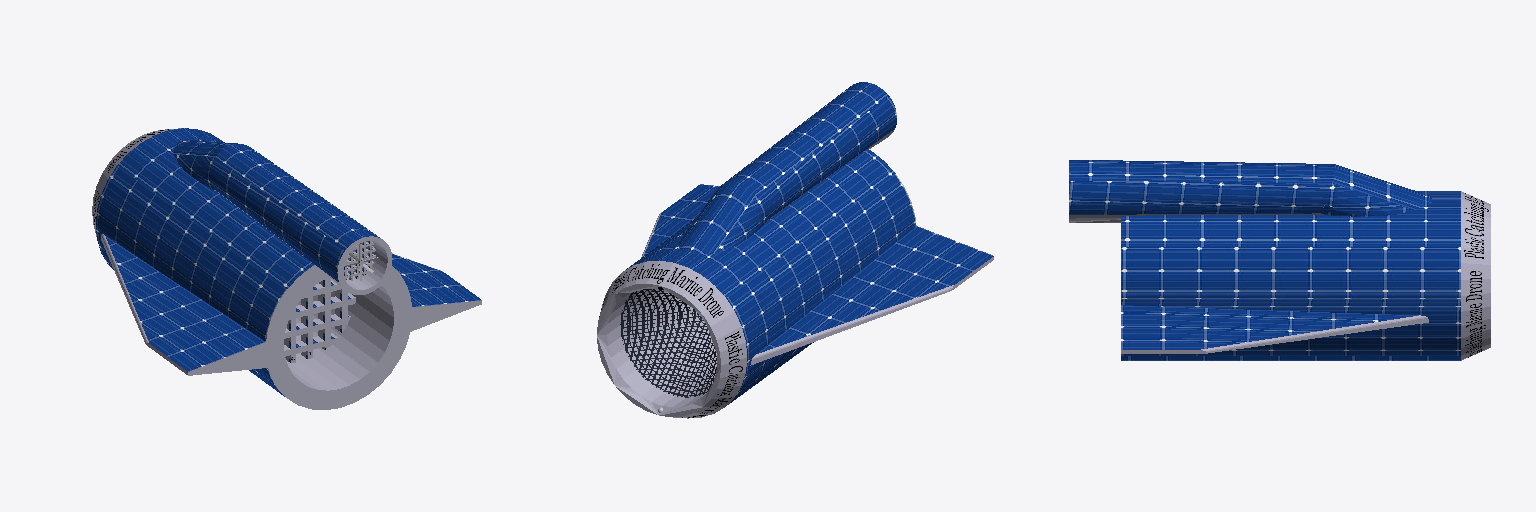
The picture shows the model from 3 angles: view 1: azimuth 30°, elevation 25°; view 2: azimuth 150°, elevation 25°; view 3: azimuth 270°, elevation 25°; orthographic projection.
Parts seen in each view (by area): view 1: Sphere.001_Material.001, Sphere.001_Material; view 2: Sphere.001_Material.001, Sphere.001_Material, Sphere.001_Material.005; view 3: Sphere.001_Material.001, Sphere.001_Material.
Boxes of the visible parts, box(x1,y1,x2,y2) form: Sphere.001_Material.001: box(92, 128, 412, 409); Sphere.001_Material: box(101, 234, 481, 375); Sphere.001_Material.001: box(597, 82, 916, 418); Sphere.001_Material: box(641, 184, 993, 365); Sphere.001_Material.005: box(620, 289, 716, 397); Sphere.001_Material.001: box(1069, 160, 1490, 360); Sphere.001_Material: box(1121, 305, 1428, 353).
Size of the model in its own units: 8 by 4.95 by 9.93.
Materials: 6 (1 with a texture image).